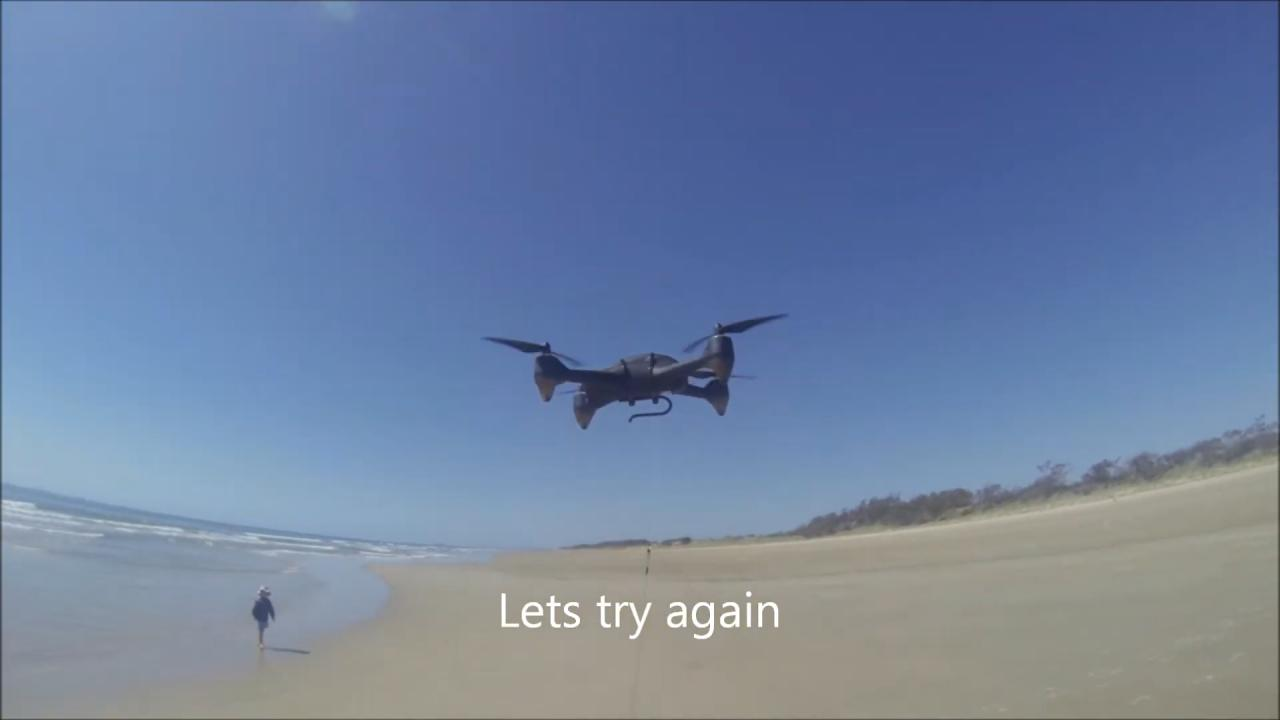Drone: (471, 303, 804, 440)
